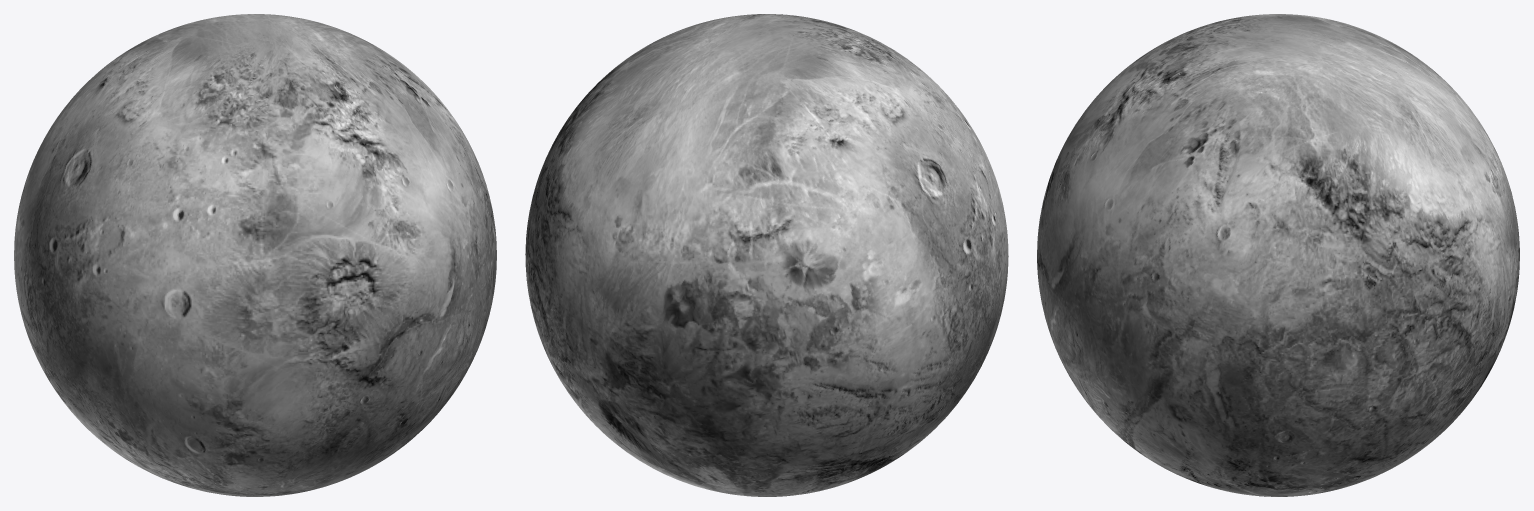
The model's file is planet.glb.
The picture shows the model from 3 angles, left to right: view 1: azimuth 30°, elevation 25°; view 2: azimuth 150°, elevation 25°; view 3: azimuth 270°, elevation 25°; orthographic projection.
Parts seen in each view (by area): view 1: Planet; view 2: Planet; view 3: Planet.
Boxes of the visible parts, box(x1,y1,x2,y2) form: Planet: box(14, 14, 496, 496); Planet: box(525, 14, 1008, 496); Planet: box(1037, 14, 1519, 496).
Bounding box in the file's own units: 2 × 2 × 2.
Materials: 1 (1 with a texture image).
